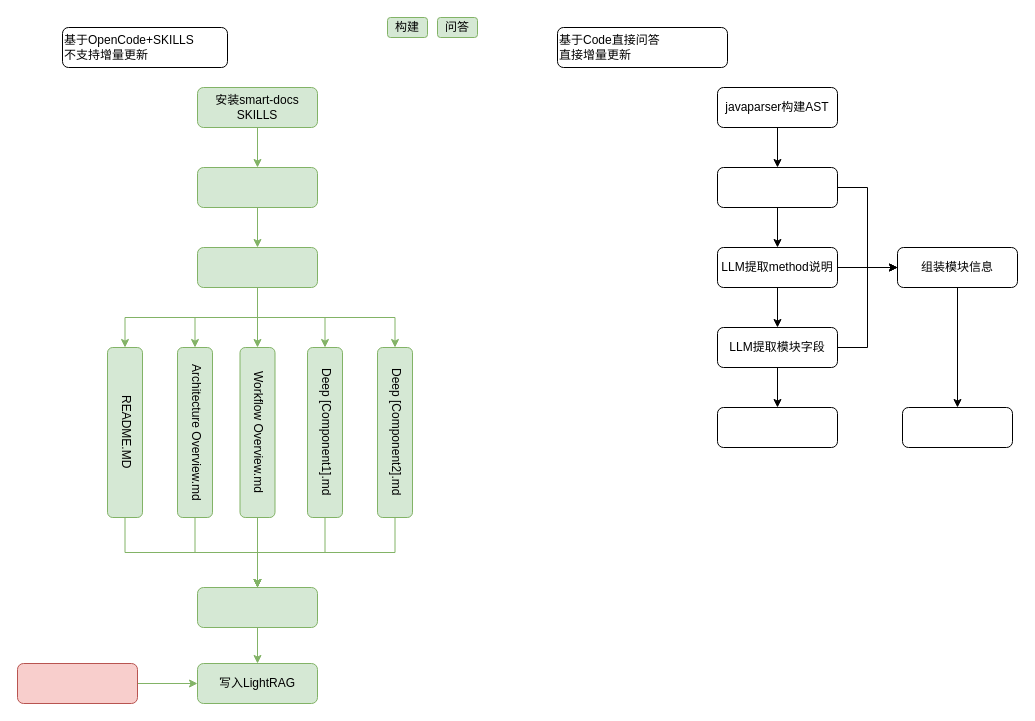
Some shapes in this 1035 by 721 pixel diagram are drawn without their labels. The box of each missing label's shape, as (x1, y1, x2, y2) in pixels:
AST插入neo4j: (716, 406, 838, 448)
LightRAG: (902, 406, 1012, 448)
LightRAG问答: (16, 662, 138, 704)
LLM提取模块概要: (716, 166, 838, 208)
opencode 执行SKILLS: (196, 166, 318, 208)
指定目录生成文档: (196, 246, 318, 288)
文档读取: (196, 586, 318, 628)
